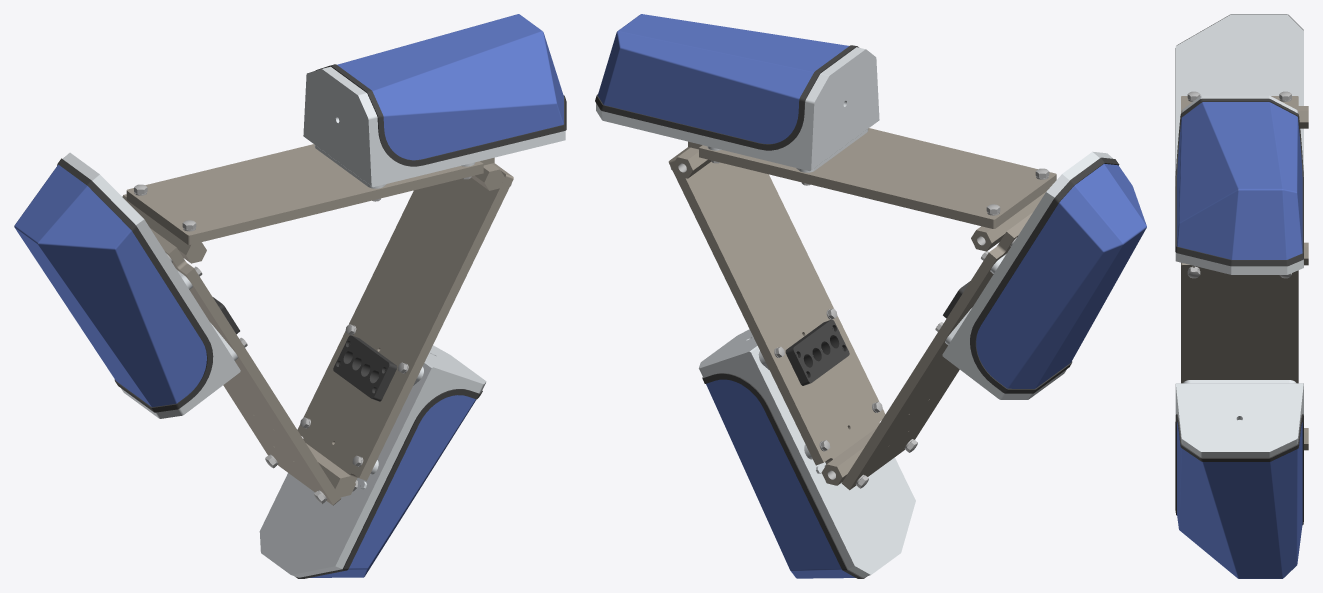
File: AbiFlexx D4-1300_base.obj
3 views of the same model, side by side, from view 1: azimuth 30°, elevation 25°; view 2: azimuth 150°, elevation 25°; view 3: azimuth 270°, elevation 25° (orthographic). The views are drawn at different scales.
Visible parts, largest first — view 1: mesh 4 Body-Move/Copy3[30] face, mesh 2 Body-Move/Copy3[20] face, mesh 6 NONE, mesh 5 Body-Move/Copy3[40], mesh 7 NONE face, mesh 1 AbiFlexx D4-1300_base; view 2: mesh 4 Body-Move/Copy3[30] face, mesh 2 Body-Move/Copy3[20] face, mesh 6 NONE, mesh 5 Body-Move/Copy3[40], mesh 7 NONE face, mesh 1 AbiFlexx D4-1300_base; view 3: mesh 4 Body-Move/Copy3[30] face, mesh 6 NONE, mesh 2 Body-Move/Copy3[20] face, mesh 5 Body-Move/Copy3[40], mesh 1 AbiFlexx D4-1300_base.
Part boxes in pixels (left/top/right/bottom): mesh 4 Body-Move/Copy3[30] face: left=14, top=14, right=563, bottom=577; mesh 2 Body-Move/Copy3[20] face: left=122, top=144, right=513, bottom=505; mesh 6 NONE: left=63, top=66, right=565, bottom=577; mesh 5 Body-Move/Copy3[40]: left=57, top=64, right=566, bottom=578; mesh 7 NONE face: left=213, top=297, right=397, bottom=401; mesh 1 AbiFlexx D4-1300_base: left=134, top=176, right=511, bottom=503; mesh 4 Body-Move/Copy3[30] face: left=597, top=14, right=1146, bottom=578; mesh 2 Body-Move/Copy3[20] face: left=668, top=128, right=1056, bottom=490; mesh 6 NONE: left=596, top=47, right=1113, bottom=577; mesh 5 Body-Move/Copy3[40]: left=595, top=45, right=1119, bottom=578; mesh 7 NONE face: left=785, top=281, right=970, bottom=385; mesh 1 AbiFlexx D4-1300_base: left=670, top=160, right=1049, bottom=488; mesh 4 Body-Move/Copy3[30] face: left=1177, top=102, right=1302, bottom=578; mesh 6 NONE: left=1175, top=14, right=1303, bottom=457; mesh 2 Body-Move/Copy3[20] face: left=1181, top=96, right=1308, bottom=450; mesh 5 Body-Move/Copy3[40]: left=1175, top=14, right=1303, bottom=525; mesh 1 AbiFlexx D4-1300_base: left=1187, top=91, right=1291, bottom=278.
Size of the model in its own units: 0.8692 by 0.7971 by 0.2033.
